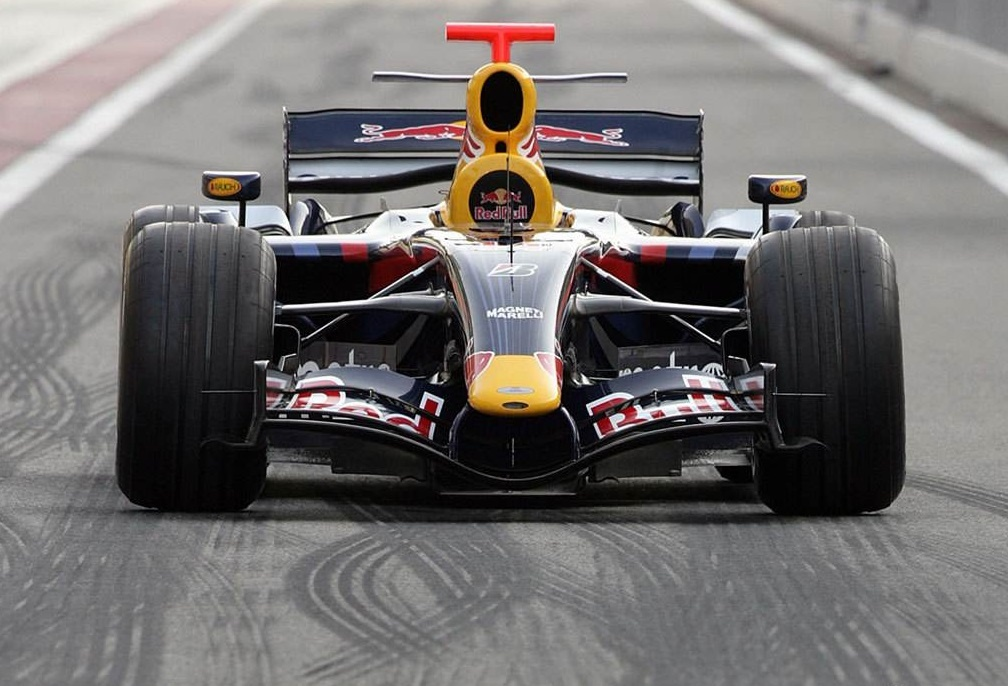racing car: (109, 43, 903, 538)
